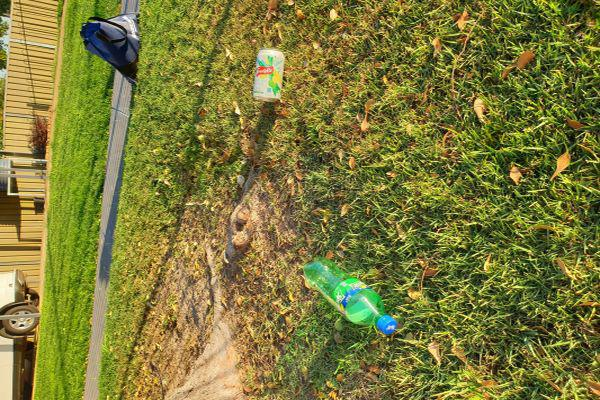Plastic Bottle: (301, 255, 397, 336), (252, 48, 285, 102)
